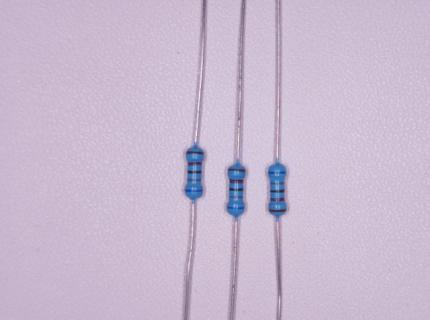Black band: (188, 170, 201, 174), (271, 189, 284, 193), (229, 188, 243, 191)
Blue band: (268, 171, 286, 174), (185, 189, 202, 192), (227, 207, 244, 209)
Brown band: (228, 169, 246, 172), (186, 152, 203, 155), (269, 209, 286, 212)
Grey band: (188, 179, 201, 182), (270, 182, 284, 184), (229, 196, 242, 198)
Red band: (188, 162, 202, 166), (270, 198, 284, 202), (230, 179, 243, 183)
